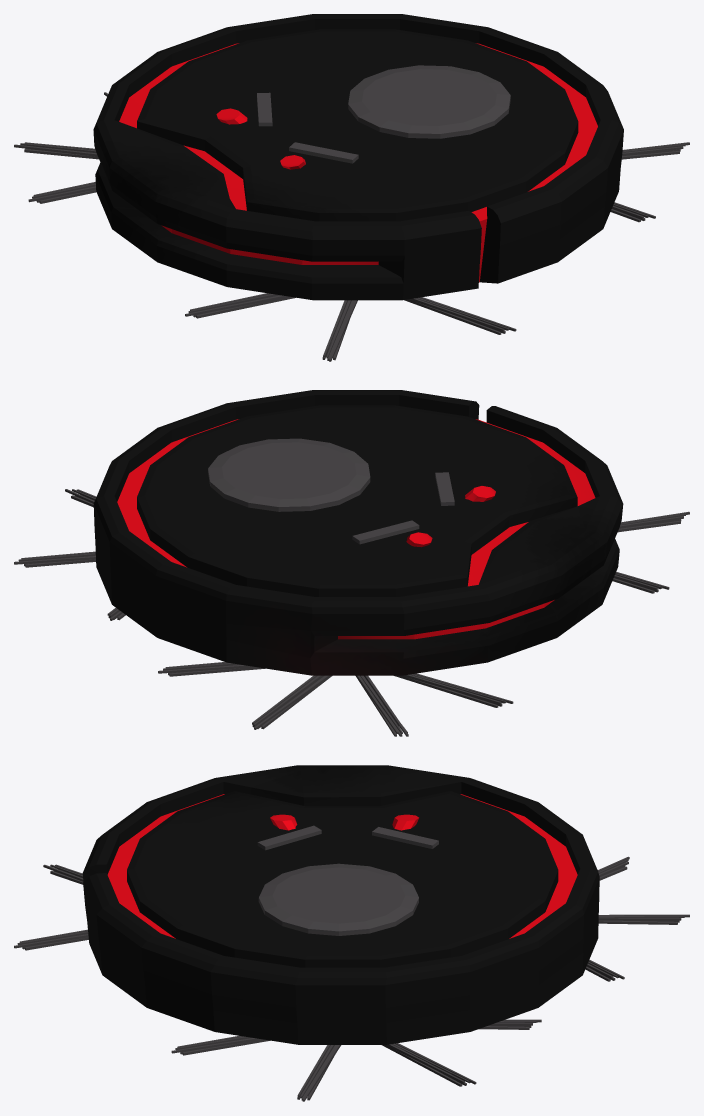
File: Vaccum.glb
The picture shows the model from 3 angles, top to bottom: view 1: azimuth 30°, elevation 25°; view 2: azimuth 150°, elevation 25°; view 3: azimuth 270°, elevation 25°; orthographic projection. The views are drawn at different scales.
Visible parts, largest first — view 1: Vaccum, DustFan1, DustFan3, DustFan2; view 2: Vaccum, DustFan3, DustFan2, DustFan1; view 3: Vaccum, DustFan2, DustFan3, DustFan1.
Boxes of the visible parts, x1=… form: Vaccum: x1=93, y1=14, x2=623, y2=300; DustFan1: x1=185, y1=293, x2=516, y2=361; DustFan3: x1=14, y1=92, x2=107, y2=203; DustFan2: x1=610, y1=142, x2=689, y2=222; Vaccum: x1=93, y1=390, x2=623, y2=675; DustFan3: x1=158, y1=662, x2=513, y2=736; DustFan2: x1=14, y1=489, x2=125, y2=620; DustFan1: x1=612, y1=511, x2=689, y2=593; Vaccum: x1=82, y1=765, x2=599, y2=1044; DustFan2: x1=171, y1=1019, x2=541, y2=1101; DustFan3: x1=585, y1=856, x2=689, y2=981; DustFan1: x1=14, y1=864, x2=88, y2=950.
Bounding box in the file's own units: 6.96 × 1.2 × 7.51.
Materials: 1 (1 with a texture image).
